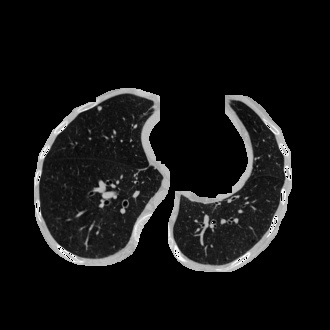PN: (97, 106, 101, 110)
